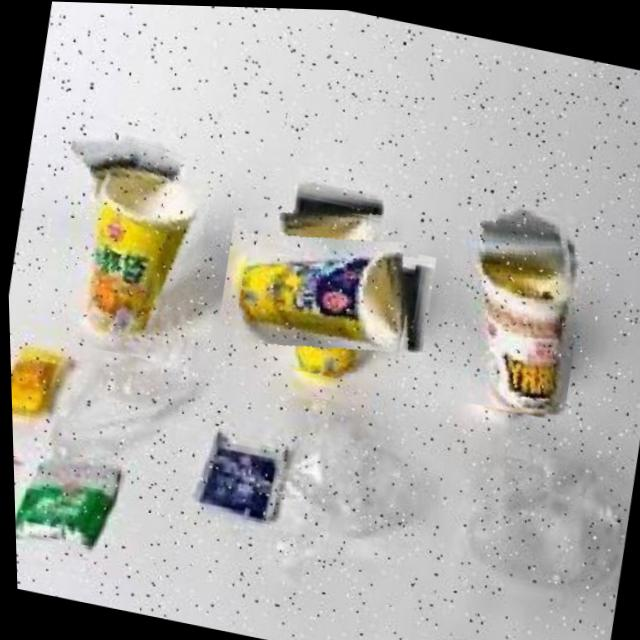Miscellaneous: (224, 188, 426, 390), (58, 128, 218, 366), (425, 201, 594, 419)
